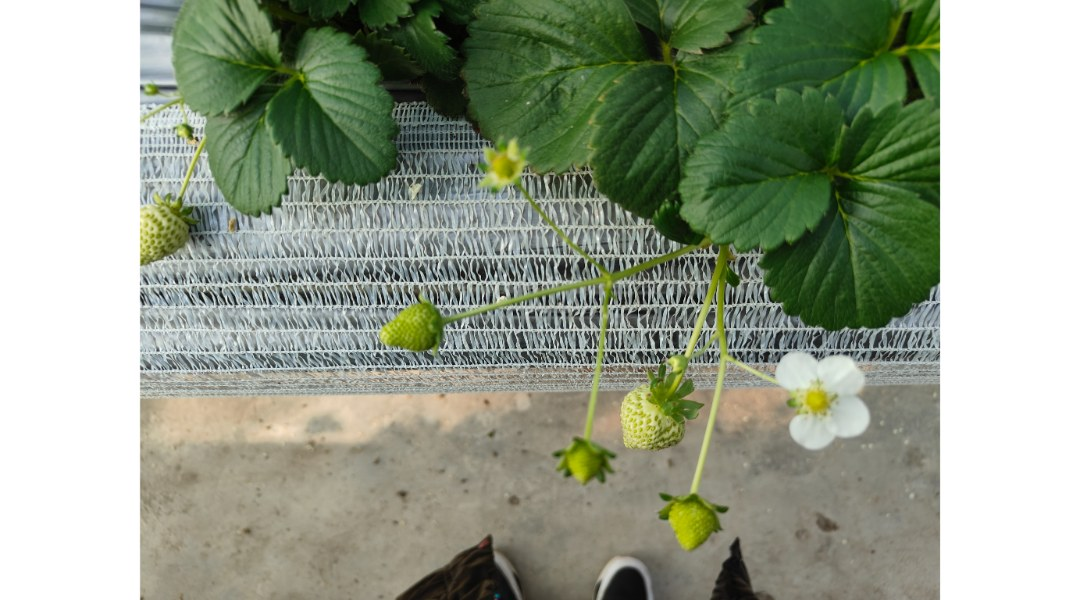berry: (613, 359, 701, 454), (126, 184, 194, 271), (372, 297, 447, 368), (649, 486, 733, 549), (548, 429, 612, 497), (474, 140, 535, 195)
flower: (775, 344, 876, 460)
strain: (433, 274, 598, 325), (510, 174, 596, 261), (623, 234, 698, 281), (689, 261, 716, 348), (702, 364, 722, 480)
